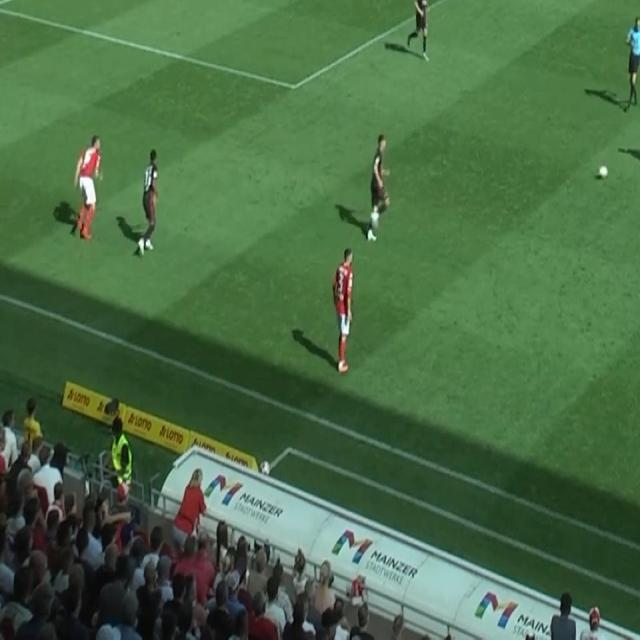ball: (598, 164, 608, 178)
